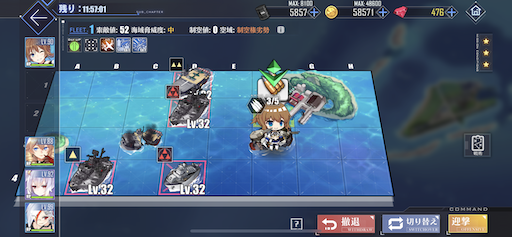lv1: (65, 146, 112, 194), (165, 84, 210, 128)
lv3: (157, 145, 206, 195), (165, 84, 210, 128)
